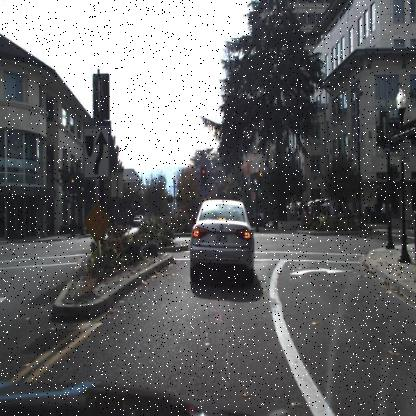car: (190, 195, 254, 285)
trafficLight-Red: (200, 166, 210, 188), (66, 174, 75, 196), (69, 177, 74, 195), (203, 168, 208, 184), (259, 170, 264, 186)
